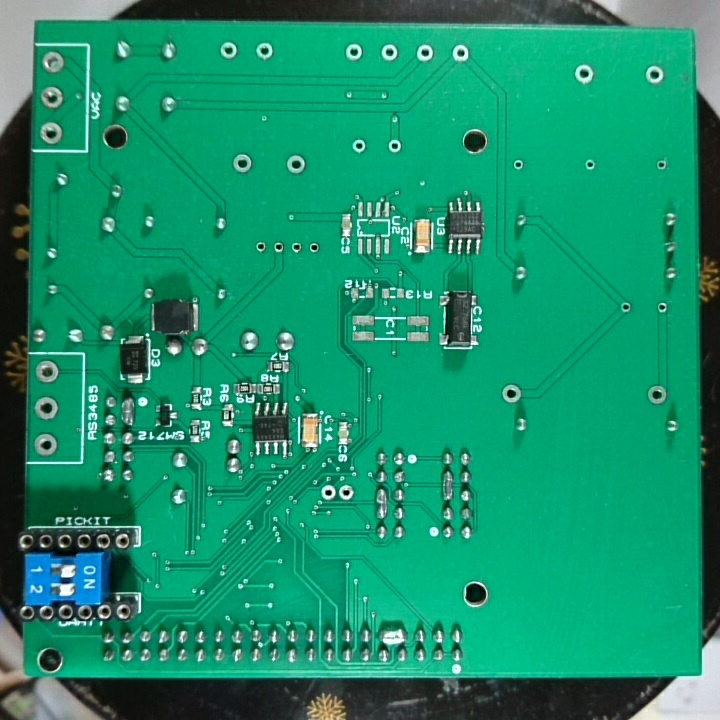F: (31, 429, 61, 458), (32, 358, 61, 385), (32, 394, 60, 421), (39, 84, 65, 111), (38, 121, 64, 148), (40, 49, 66, 75), (644, 383, 670, 408), (572, 62, 597, 88), (284, 152, 308, 178), (499, 382, 525, 405), (252, 40, 277, 63), (644, 64, 666, 88), (343, 41, 365, 65), (231, 152, 253, 176), (378, 41, 400, 63), (451, 42, 471, 66), (414, 42, 434, 66), (217, 40, 239, 61), (349, 136, 369, 158), (653, 298, 671, 320), (337, 481, 354, 504), (385, 136, 405, 155), (319, 482, 337, 503), (252, 238, 270, 258), (617, 298, 634, 318), (307, 238, 321, 258), (582, 155, 597, 173), (511, 155, 525, 174), (289, 238, 303, 257), (271, 238, 285, 257), (654, 157, 668, 175)
P: (376, 623, 408, 647), (119, 395, 137, 427), (440, 466, 455, 503), (373, 485, 388, 520)
